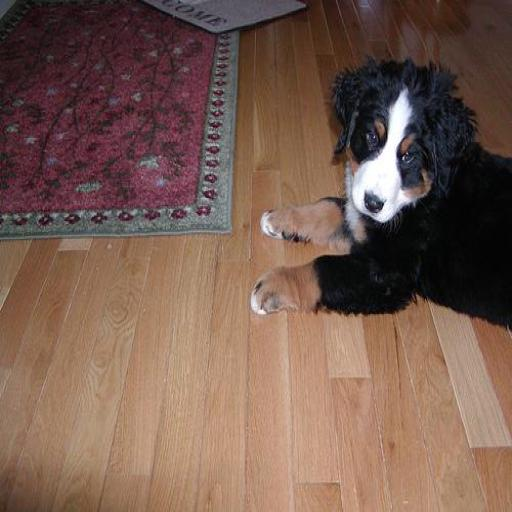dog_face: (334, 66, 457, 221)
